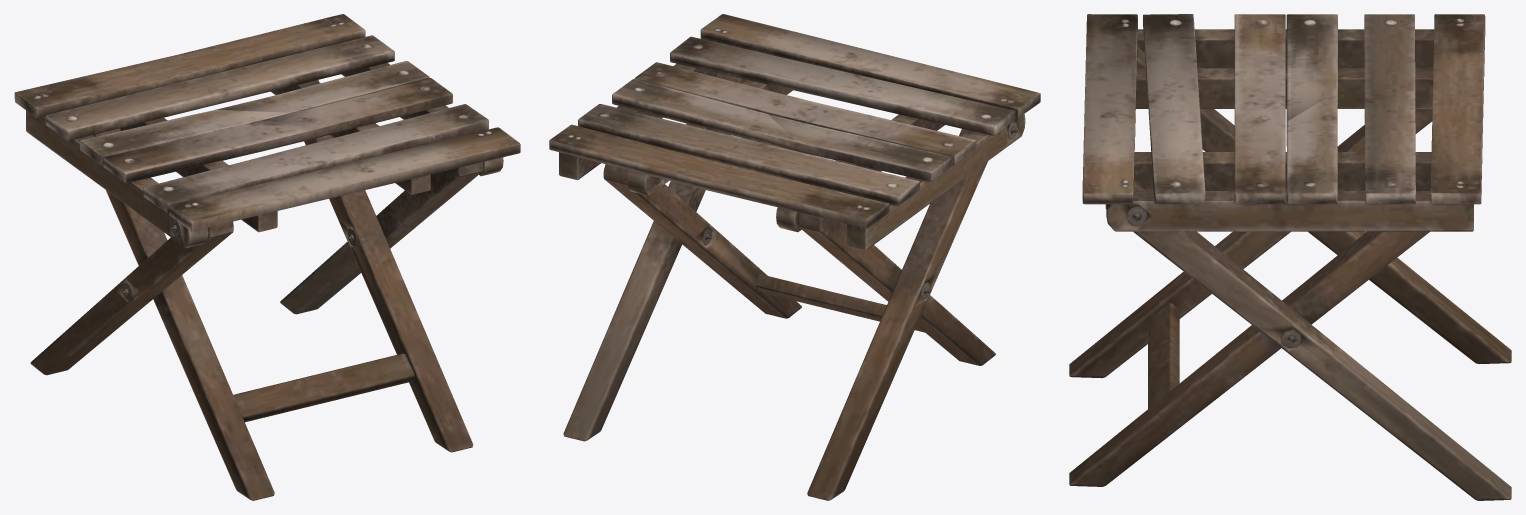
File: stool.glb
3 renders of one model, left to right at view 1: azimuth 30°, elevation 25°; view 2: azimuth 150°, elevation 25°; view 3: azimuth 270°, elevation 25°, orthographic. The views are drawn at different scales.
Parts seen in each view (by area): view 1: folding_wooden_stool; view 2: folding_wooden_stool; view 3: folding_wooden_stool.
Boxes of the visible parts, <box> form: folding_wooden_stool: <box>14,14,520,500</box>; folding_wooden_stool: <box>549,14,1040,500</box>; folding_wooden_stool: <box>1069,14,1511,500</box>.
Size of the model in its own units: 0.527 by 0.442 by 0.5471.
Materials: 1 (1 with a texture image).
